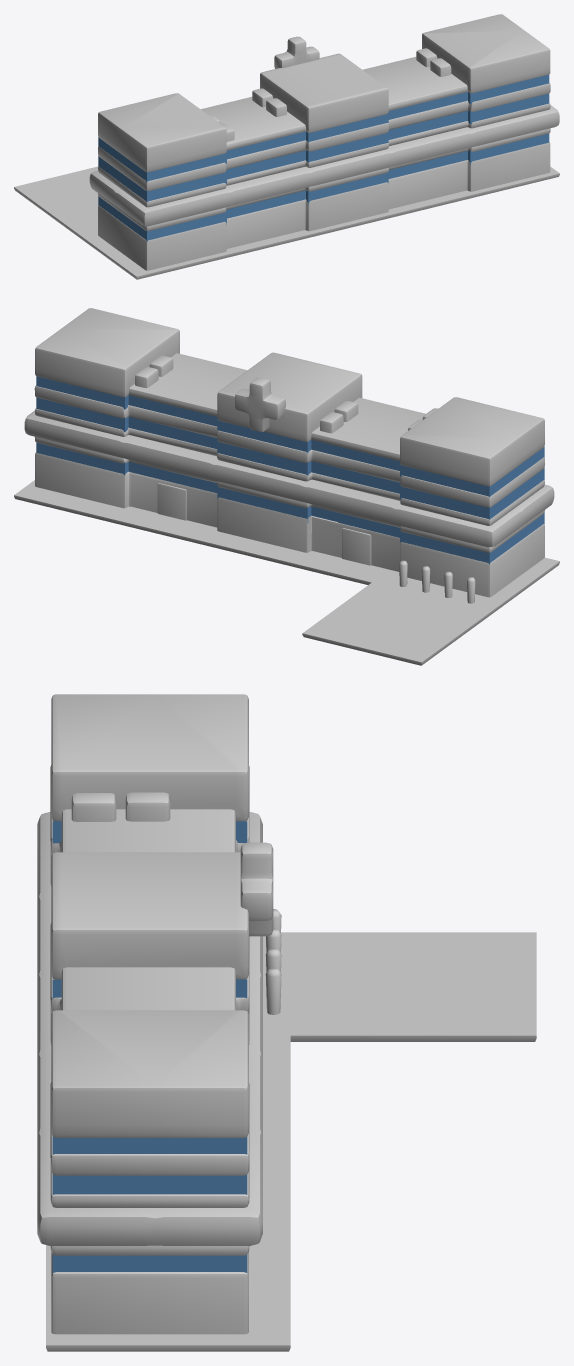
The model's file is medico.fbx.
3 views of the same model, one above another, from view 1: azimuth 30°, elevation 25°; view 2: azimuth 150°, elevation 25°; view 3: azimuth 270°, elevation 25° (orthographic). The views are drawn at different scales.
Parts seen in each view (by area): view 1: edificio_5, ventanas, base, Object009; view 2: edificio_5, base, ventanas, Object009; view 3: edificio_5, base, ventanas, Object009.
Boxes of the visible parts, x1,y1,x2,y2 form: edificio_5: (89,14,559,270); ventanas: (98,74,549,241); base: (14,166,559,279); Object009: (207,36,451,141); edificio_5: (24,308,554,597); base: (14,480,559,665); ventanas: (36,376,544,564); Object009: (135,355,475,603); edificio_5: (37,694,262,1334); base: (46,932,536,1351); ventanas: (52,821,247,1272); Object009: (71,792,281,1014).
Bounding box in the file's own units: 400 × 136 × 204.
